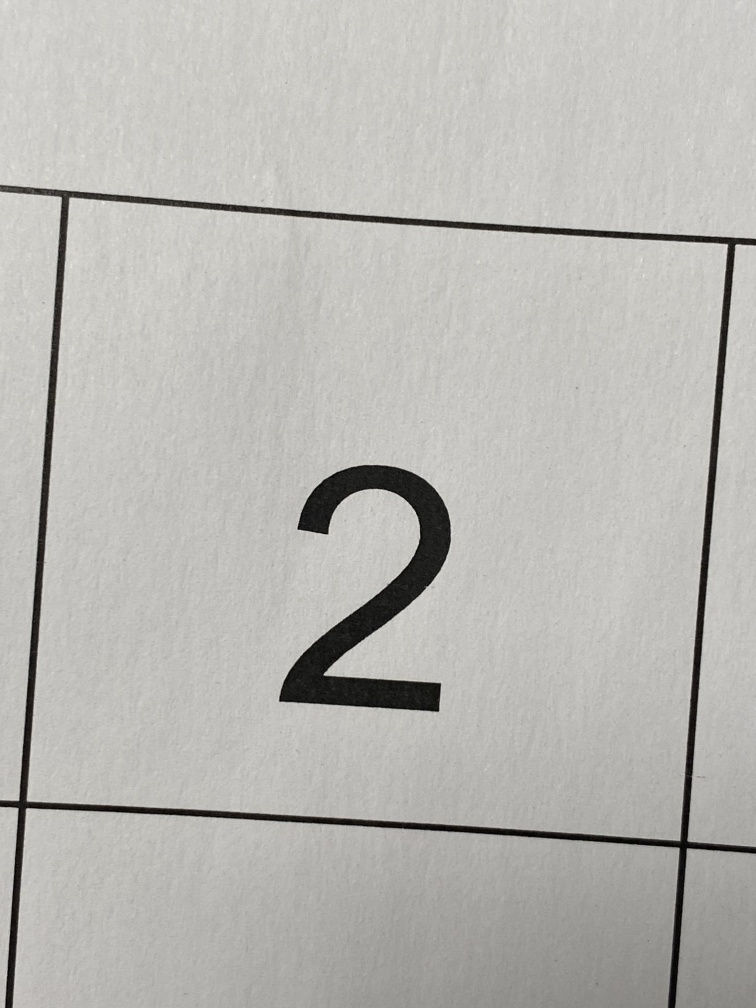two: (246, 434, 495, 767)
